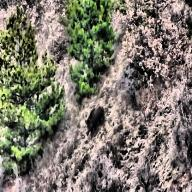boar: (80, 98, 108, 140)
